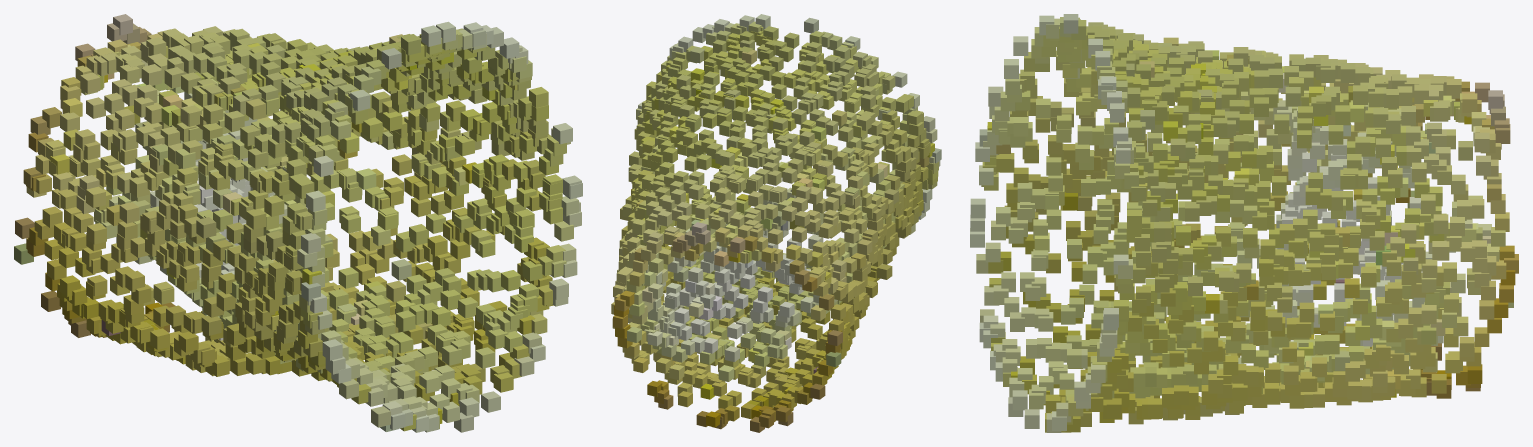
File: cup.glb
3 renders of one model, left to right at view 1: azimuth 30°, elevation 25°; view 2: azimuth 150°, elevation 25°; view 3: azimuth 270°, elevation 25°, orthographic. The views are drawn at different scales.
Visible parts, largest first — view 1: world; view 2: world; view 3: world.
Boxes of the visible parts, bbox=[...] form: world: bbox=[14, 14, 582, 432]; world: bbox=[611, 14, 941, 432]; world: bbox=[970, 14, 1518, 432].
Bounding box in the file's own units: 0.0979 × 0.0899 × 0.1108.
